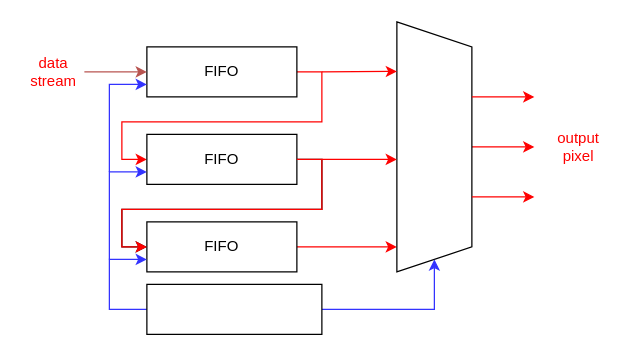
Some shapes in this 630 by 356 pixel diagram are drawn without their labels. Each missing label, with the centre of its shape:
control unit: point (234, 308)
Mapping: point (434, 146)
